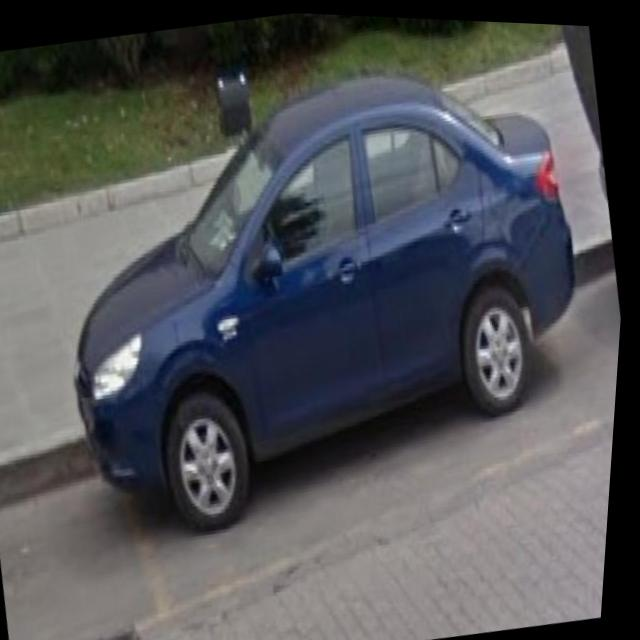vehicle: (25, 18, 626, 559)
